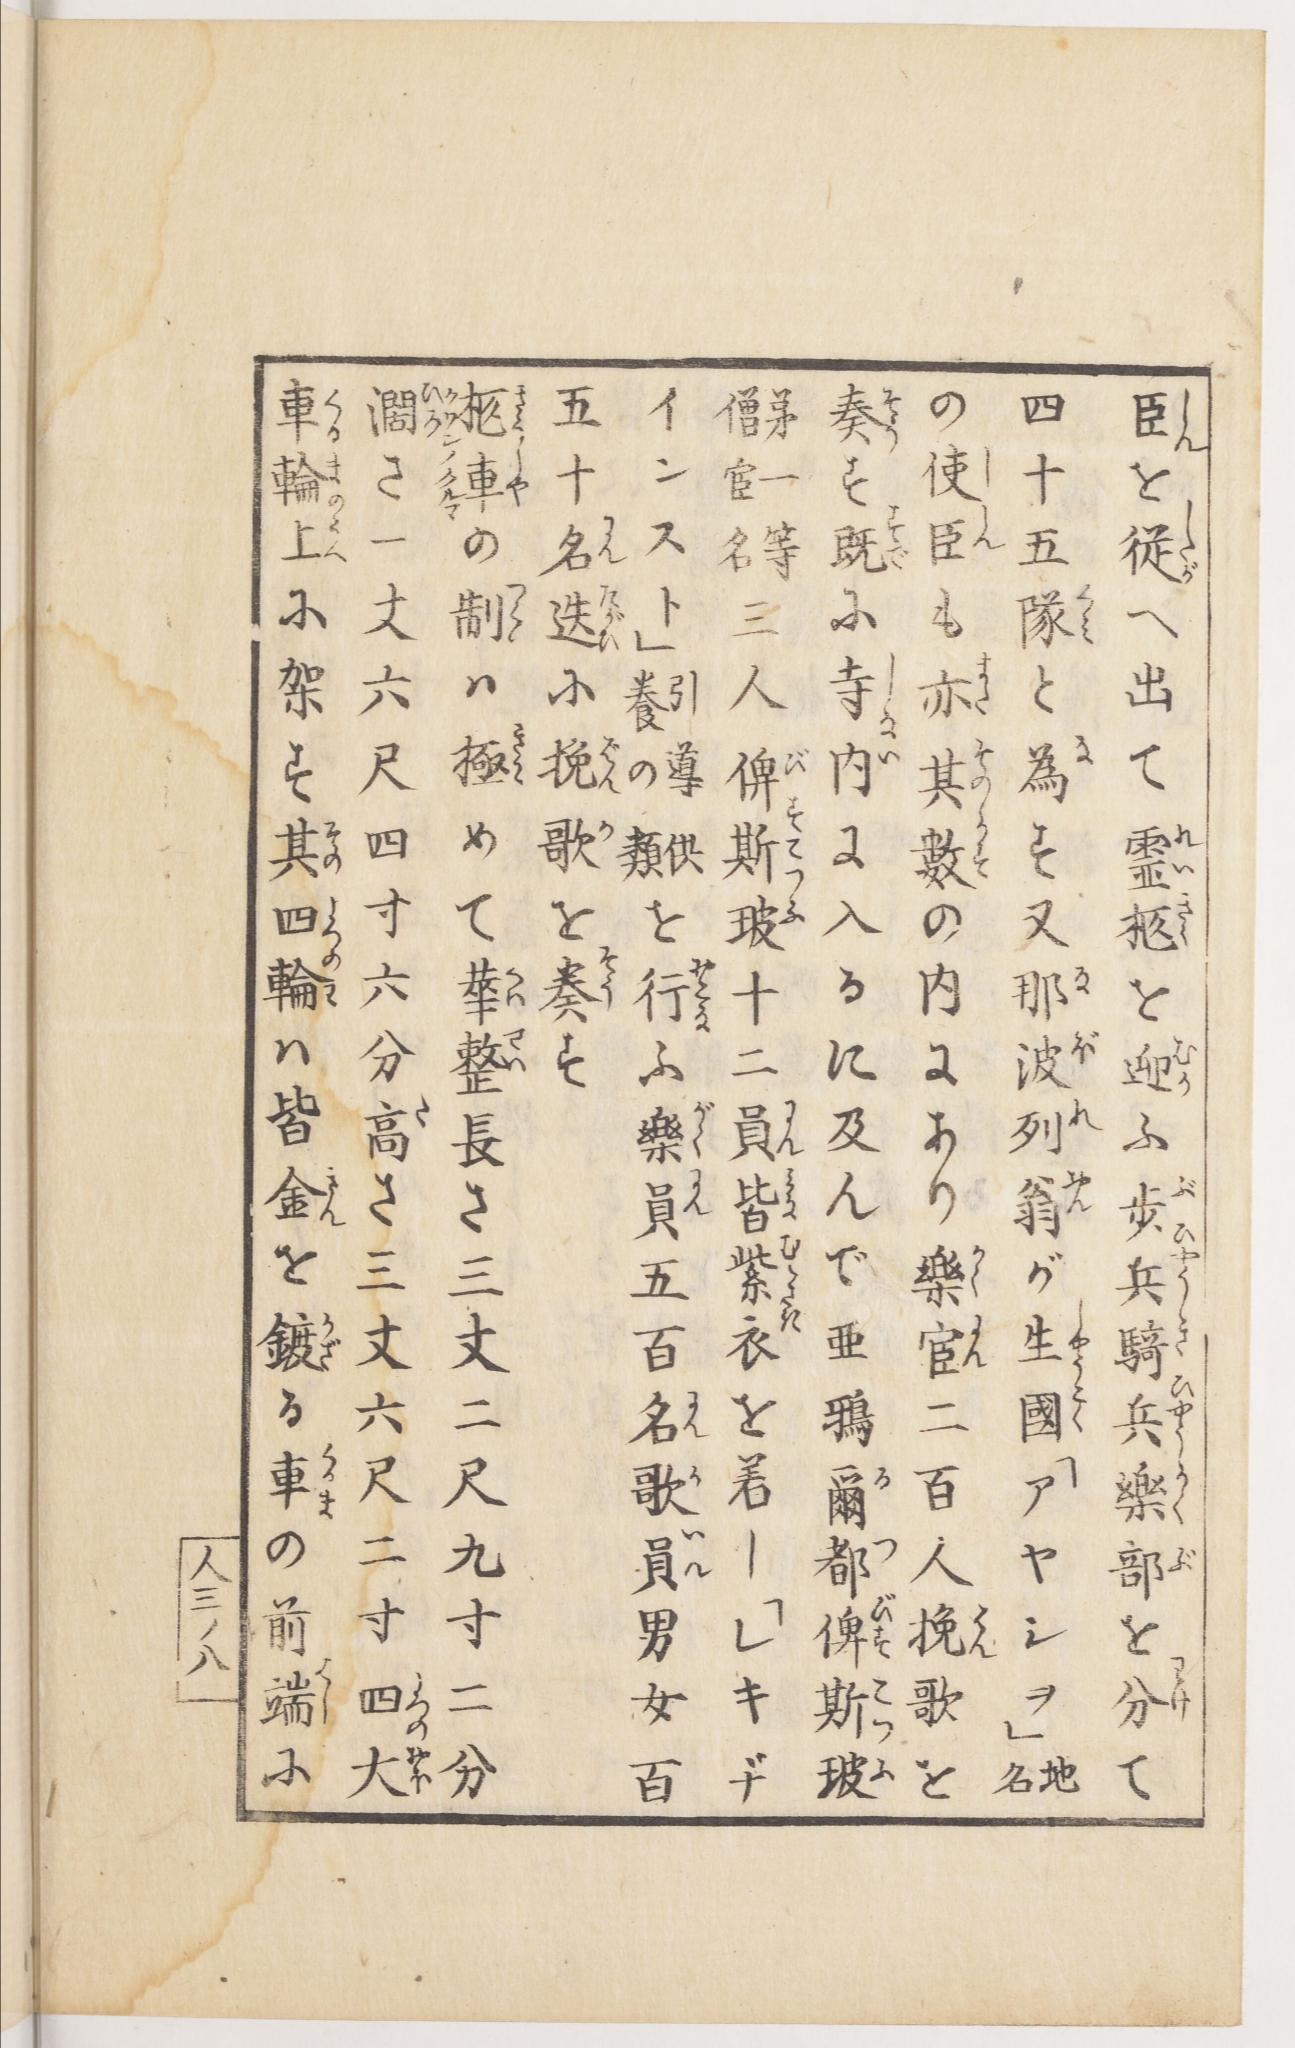MainZone-Character: (716, 797, 815, 890), (631, 950, 724, 1038), (1003, 1022, 1107, 1099), (1119, 500, 1210, 588), (1013, 583, 1110, 658), (1012, 1305, 1100, 1387), (255, 1301, 343, 1383), (809, 1590, 900, 1669), (1007, 1163, 1100, 1241), (1111, 1374, 1202, 1451), (825, 503, 912, 582), (266, 1442, 348, 1523), (1119, 814, 1201, 893), (1129, 380, 1214, 456), (451, 1026, 533, 1104), (1117, 1168, 1201, 1244), (619, 1453, 707, 1524), (1000, 1099, 1100, 1162), (1107, 1454, 1198, 1523), (912, 647, 995, 722), (831, 652, 903, 738), (909, 1596, 995, 1668), (357, 1090, 436, 1168), (809, 1672, 895, 1742), (728, 738, 816, 807), (275, 889, 351, 968), (542, 944, 616, 1025), (1110, 1654, 1194, 1726), (352, 1666, 436, 1738), (1116, 1034, 1201, 1104), (812, 1459, 897, 1529), (913, 814, 992, 889), (543, 728, 625, 800), (451, 577, 533, 649), (725, 1304, 810, 1372), (260, 1657, 336, 1733), (263, 1159, 343, 1231), (1017, 734, 1094, 808), (446, 720, 530, 788), (806, 1527, 897, 1589), (536, 811, 618, 879), (1109, 1532, 1194, 1596), (275, 491, 346, 567), (724, 888, 804, 955), (1114, 1308, 1198, 1372), (921, 737, 994, 810), (1113, 1247, 1207, 1304), (273, 377, 349, 446), (809, 1742, 894, 1803), (549, 510, 628, 576), (725, 1240, 806, 1304), (1004, 956, 1095, 1013), (352, 1739, 434, 1802), (922, 1311, 994, 1383), (549, 582, 624, 650), (725, 1165, 803, 1231), (921, 507, 1006, 567), (260, 955, 339, 1019), (828, 380, 904, 446), (627, 1386, 704, 1448), (452, 956, 531, 1017), (733, 1098, 807, 1162), (628, 1529, 710, 1586), (909, 1246, 989, 1302), (921, 445, 998, 503), (272, 820, 345, 882), (270, 449, 346, 506), (628, 670, 697, 732), (1013, 1387, 1088, 1444), (465, 446, 530, 512), (825, 740, 898, 797), (1117, 901, 1197, 953), (457, 379, 527, 433)
MainZone-Ruby: (1168, 500, 1205, 585), (685, 950, 719, 1037), (876, 650, 904, 747), (865, 1592, 900, 1663), (774, 1237, 810, 1305), (1168, 1653, 1201, 1726), (400, 1669, 434, 1738), (1168, 1374, 1197, 1454), (785, 805, 812, 890), (1177, 389, 1211, 453), (307, 1656, 340, 1720), (1056, 1165, 1097, 1217), (1170, 1034, 1201, 1099), (877, 379, 907, 447), (883, 500, 910, 576), (867, 1674, 895, 1745), (318, 1156, 346, 1228), (595, 580, 624, 652), (403, 1741, 437, 1799), (503, 573, 531, 643), (968, 735, 994, 813), (1173, 1171, 1198, 1248), (1068, 1305, 1092, 1387), (313, 1441, 339, 1517), (321, 895, 346, 971), (970, 504, 1007, 555), (680, 1526, 712, 1584), (970, 1603, 1001, 1660), (597, 732, 624, 797), (506, 716, 530, 788), (322, 492, 346, 564), (1170, 816, 1197, 879), (779, 1166, 806, 1228), (318, 1302, 340, 1374), (779, 1098, 803, 1162), (503, 443, 527, 507), (971, 647, 992, 720), (1171, 1248, 1201, 1299), (1071, 1026, 1107, 1068), (319, 383, 345, 442), (595, 944, 618, 1010), (595, 516, 627, 562), (959, 1314, 986, 1368), (498, 1023, 527, 1074), (321, 819, 345, 879), (1168, 1536, 1202, 1577), (683, 1390, 709, 1444), (1068, 723, 1097, 771), (1065, 1102, 1101, 1140), (974, 817, 994, 885), (1077, 583, 1098, 644), (974, 443, 1001, 489), (1065, 1387, 1092, 1433), (1173, 1310, 1197, 1359), (1173, 1459, 1191, 1524), (501, 962, 527, 1008), (785, 740, 815, 779), (1176, 898, 1197, 950), (1070, 958, 1095, 999), (968, 1244, 988, 1298), (774, 1304, 806, 1335), (512, 383, 531, 433), (319, 976, 342, 1014), (874, 743, 906, 770), (867, 1756, 898, 1782), (873, 1533, 900, 1565), (780, 895, 806, 928), (324, 447, 345, 486), (412, 1093, 433, 1131), (874, 1463, 894, 1499), (595, 811, 615, 844), (689, 1459, 706, 1490), (689, 667, 697, 722)
